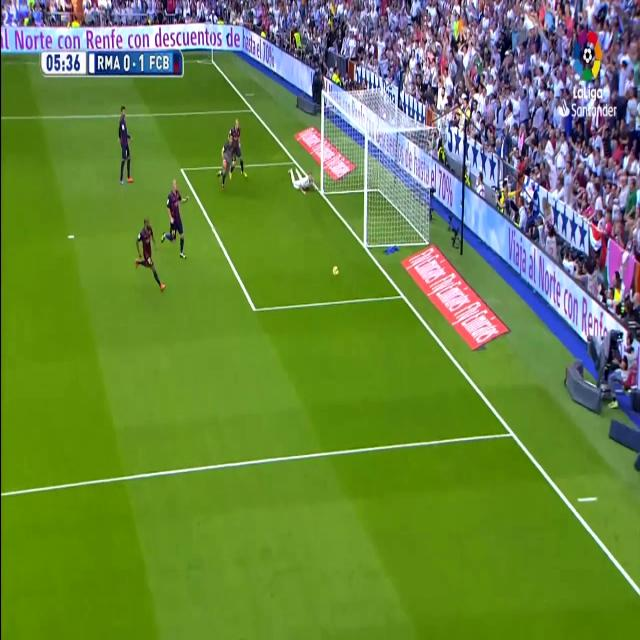bigarea_bottom_inner: (249, 293, 261, 322)
bigarea_top_inner: (178, 160, 186, 178)
bigarea_top_outter: (248, 101, 256, 116)
corner: (206, 54, 216, 66)
smallarea_top_outter: (291, 153, 298, 169)
